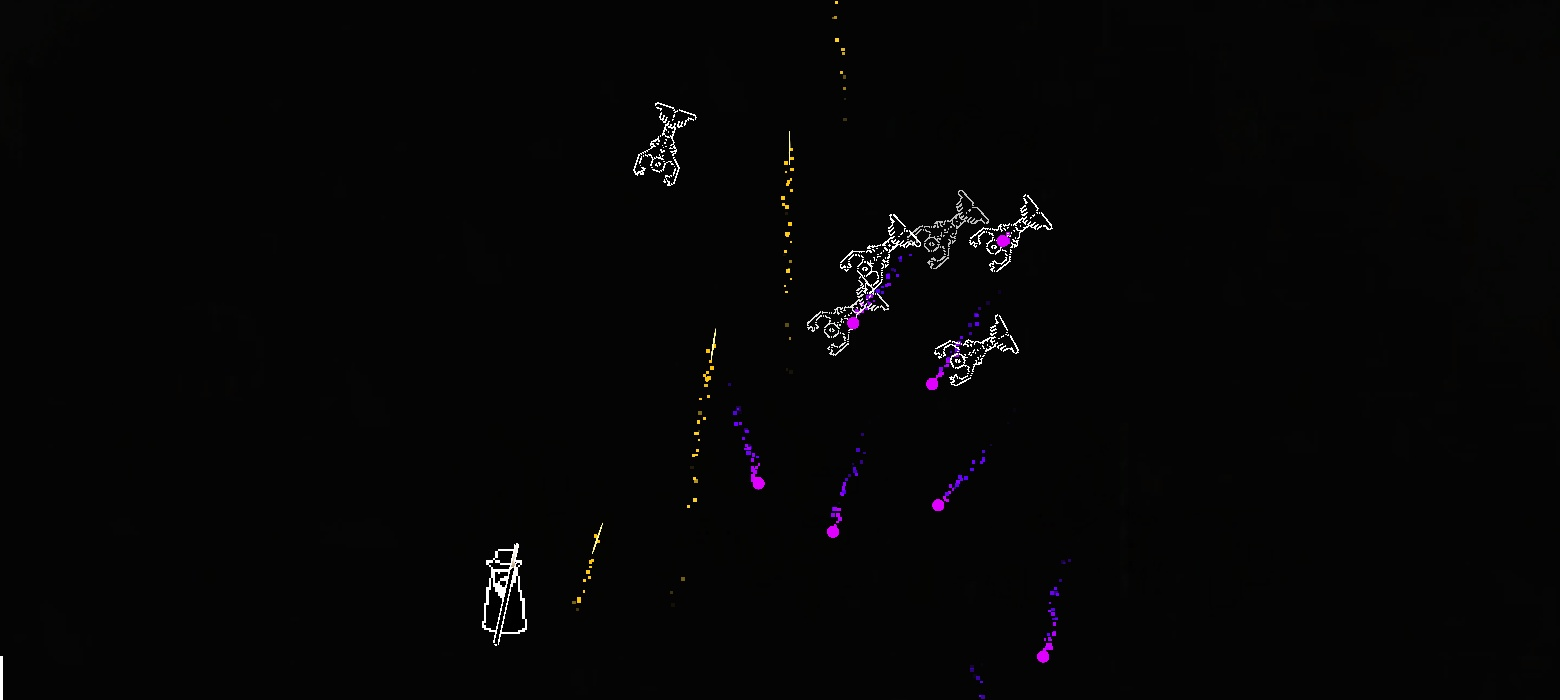enemy: (807, 276, 890, 356), (839, 214, 921, 294), (907, 190, 990, 269), (969, 194, 1053, 272), (934, 314, 1020, 386), (631, 102, 697, 187)
